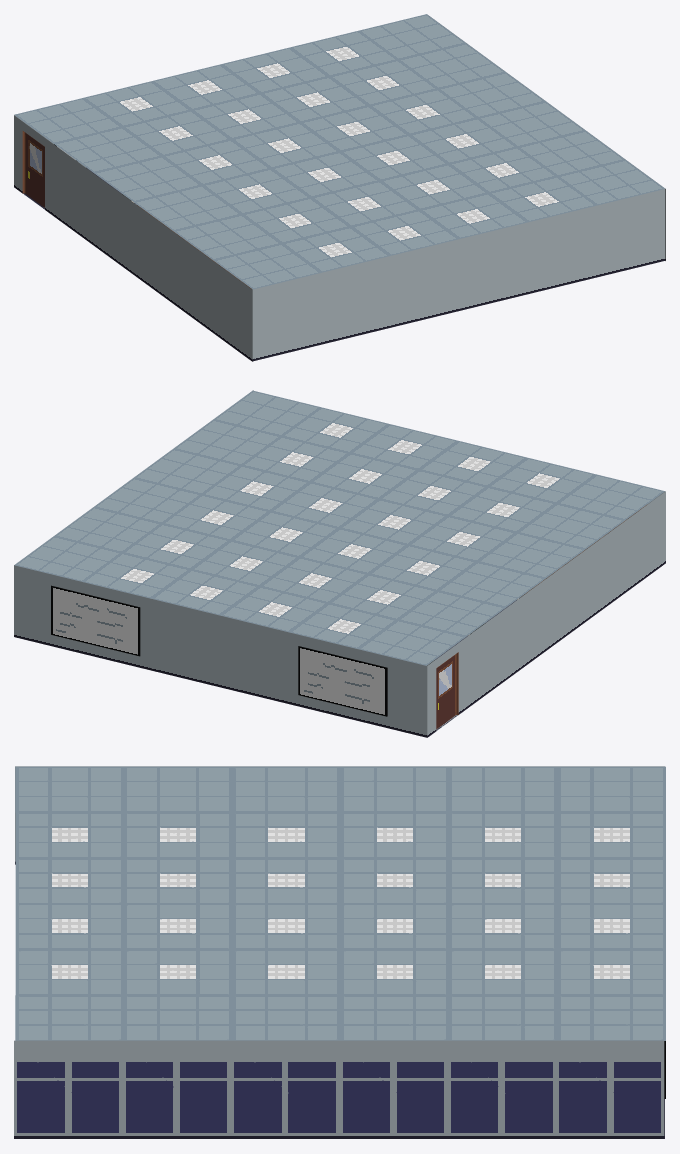
Rendered from ComputerLabRUINEED.glb.
3 views of the same model, one above another, from view 1: azimuth 30°, elevation 25°; view 2: azimuth 150°, elevation 25°; view 3: azimuth 270°, elevation 25° (orthographic). The views are drawn at different scales.
Visible parts, largest first — view 1: Ceiling2, Wall3, WallDoor; view 2: Ceiling2, Wall, WallDoor, WhiteBoard; view 3: Ceiling2, Wall2, WallDoor.
Boxes of the visible parts, left/top/right/bottom form: Ceiling2: left=14, top=14, right=665, bottom=289; Wall3: left=252, top=189, right=664, bottom=361; WallDoor: left=14, top=115, right=252, bottom=361; Ceiling2: left=14, top=390, right=664, bottom=665; Wall: left=14, top=565, right=427, bottom=737; WallDoor: left=427, top=491, right=665, bottom=737; WhiteBoard: left=51, top=585, right=387, bottom=716; Ceiling2: left=15, top=766, right=665, bottom=1040; Wall2: left=14, top=1040, right=664, bottom=1138; WallDoor: left=15, top=766, right=664, bottom=864.
Size of what is drawn, in the model's own units: 12 by 2.06 by 12.03.
151 materials, 83 textured.
